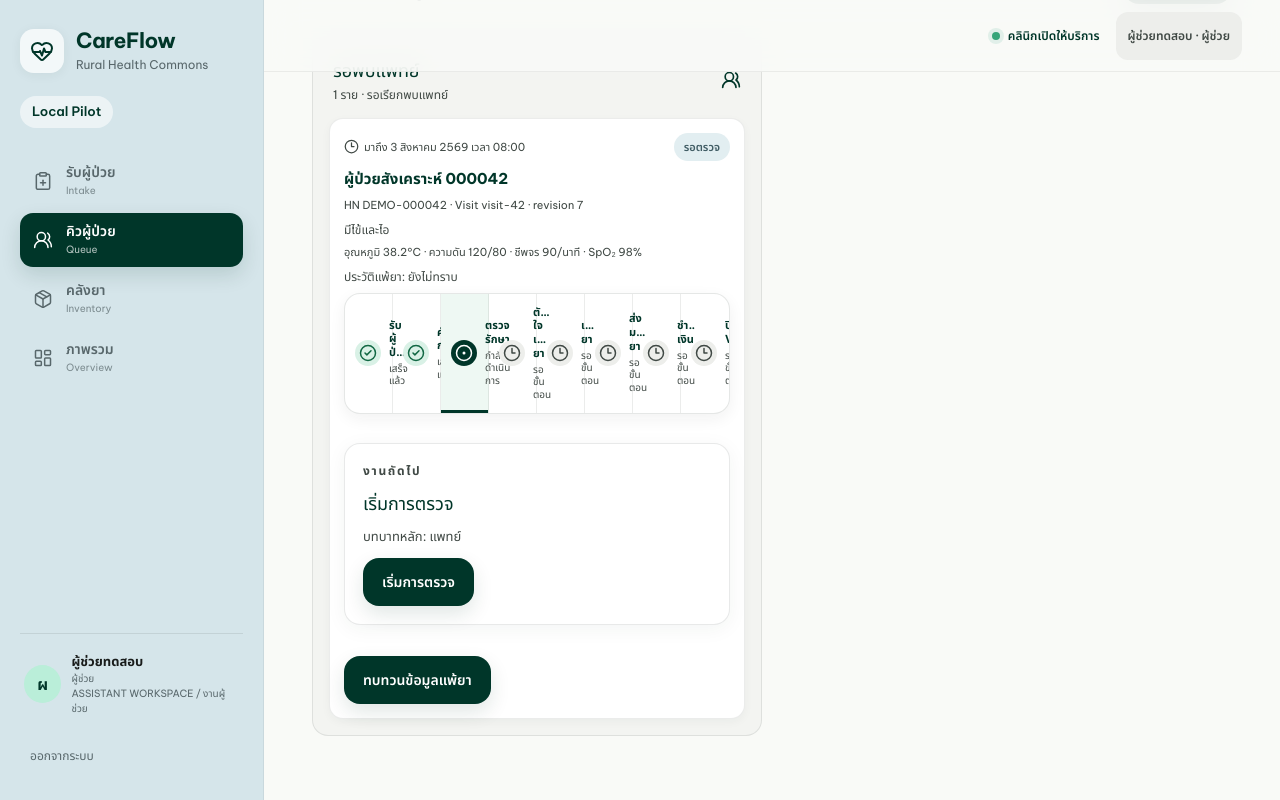
it: connected shared queue workflow › retains Assistant Allergy values but blocks resubmission until a conflict reload
(page scrolled)
Click the button "ทบทวนข้อมูลแพ้ยา" at (417, 680), box [344, 656, 491, 704]
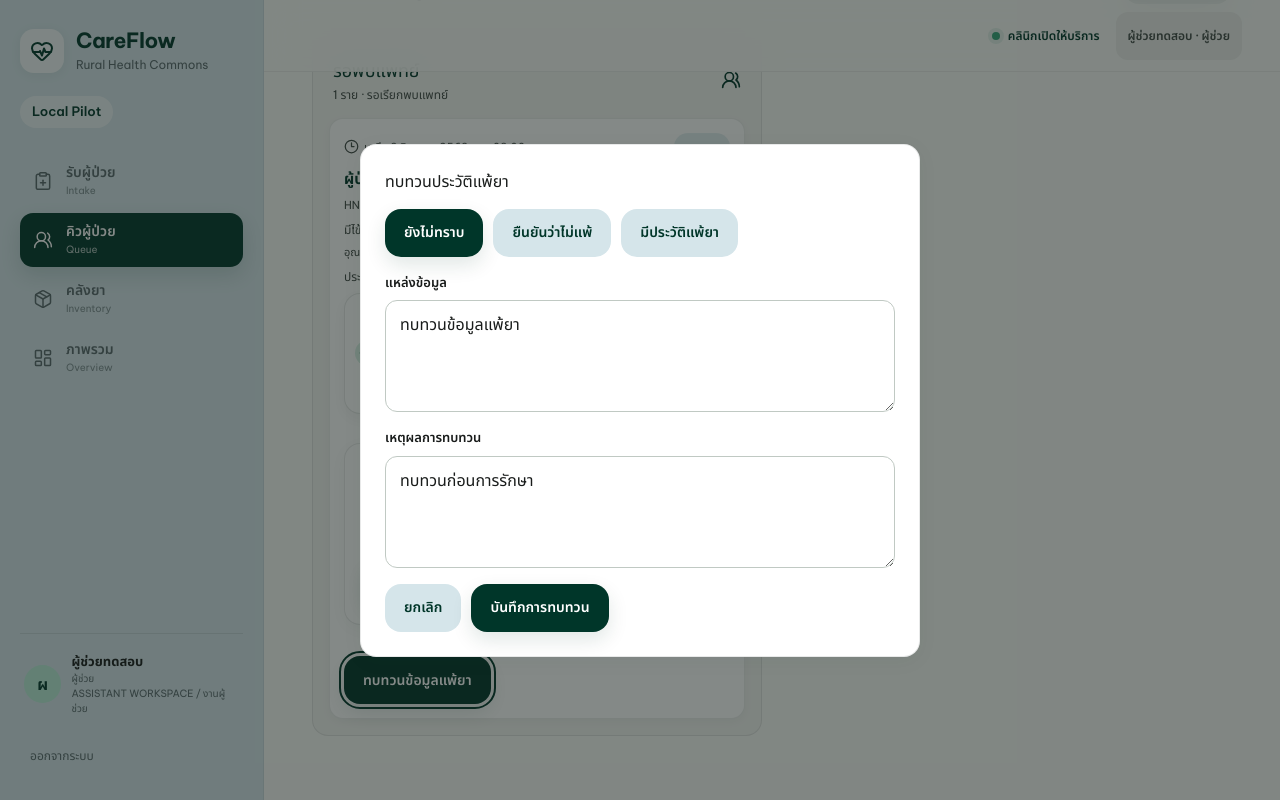
Replace the text in the text box labelled "แหล่งข้อมูล" with "ผู้ช่วยทบทวนจากบัตรแพ้ยา" at (640, 356), box [385, 300, 895, 412]
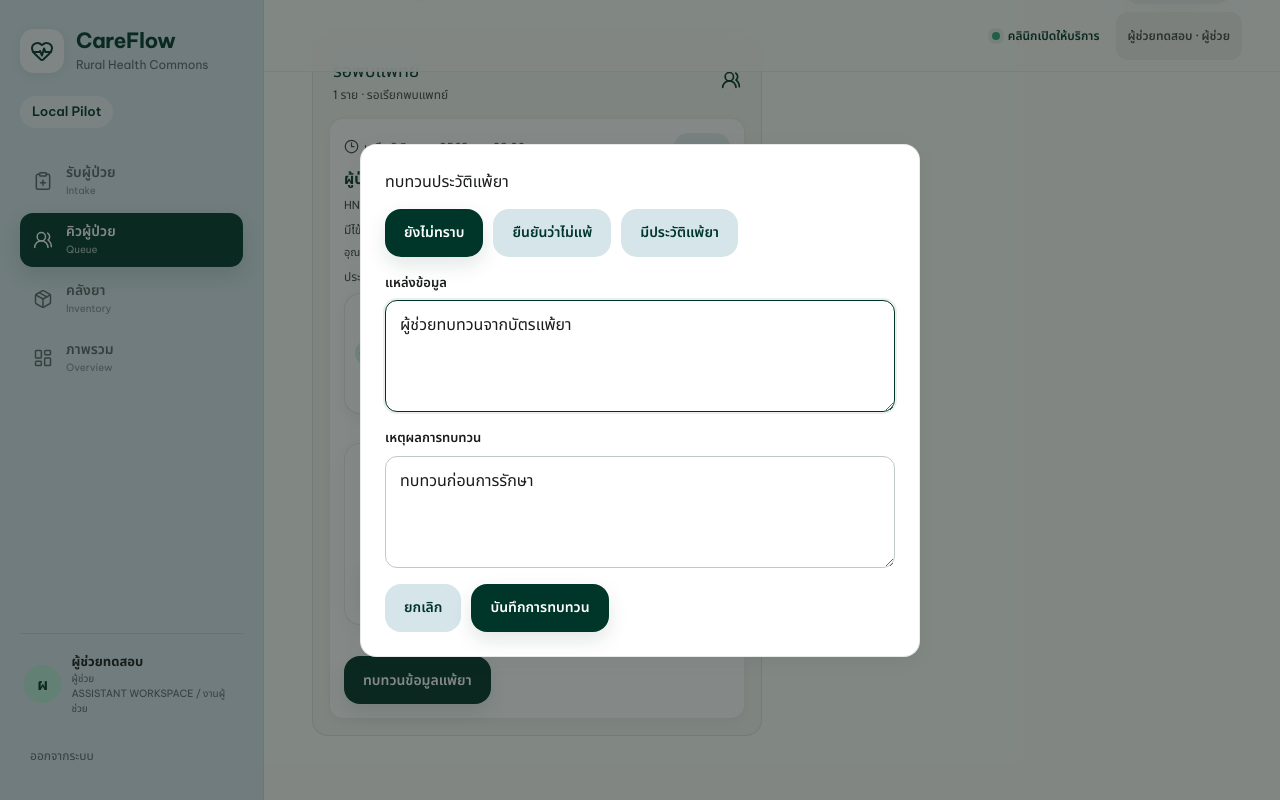
Click the button "บันทึกการทบทวน" at (540, 608), box [472, 584, 608, 632]
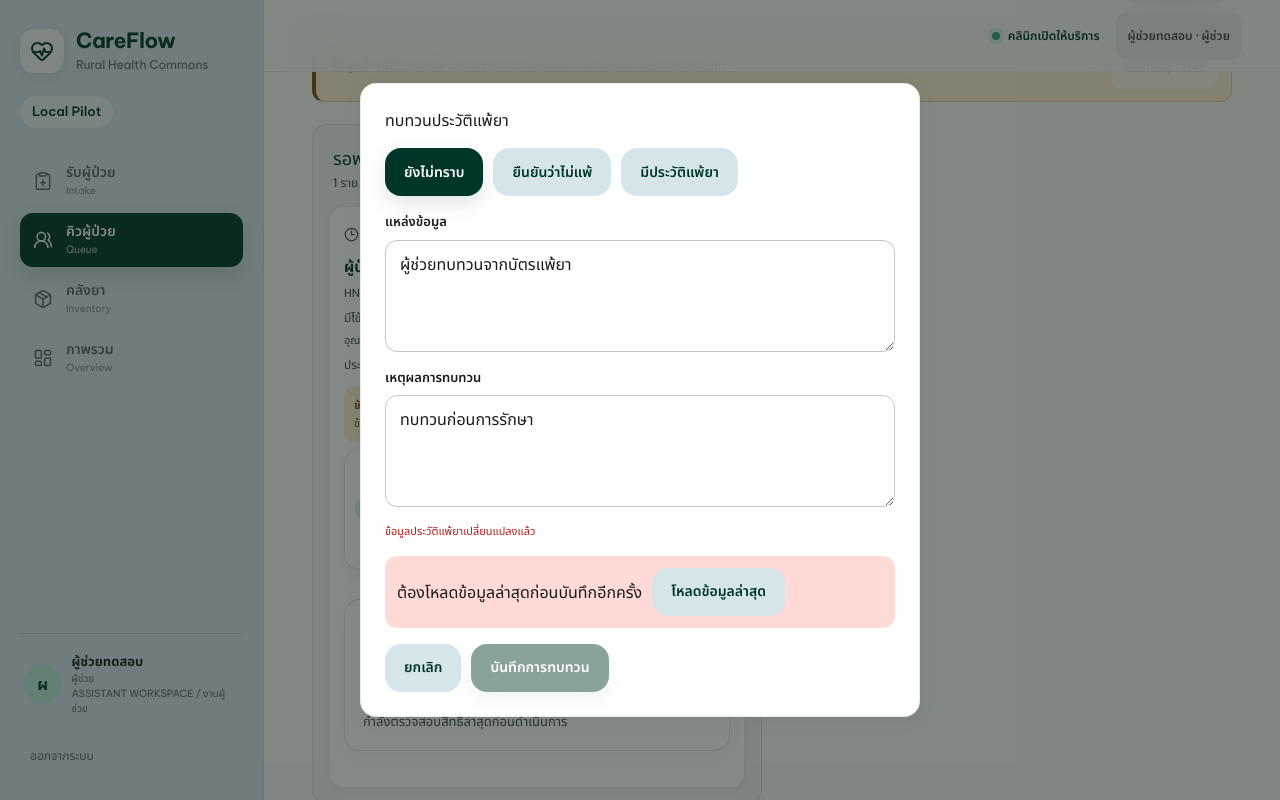
Now the text "ข้อมูลประวัติแพ้ยาเปลี่ยนแปลงแล้ว" is shown, box [354, 398, 514, 412]
Now the button "บันทึกการทบทวน" is disabled, box [472, 644, 608, 692]
Click the button "โหลดข้อมูลล่าสุด" at (719, 592), box [652, 568, 785, 616]
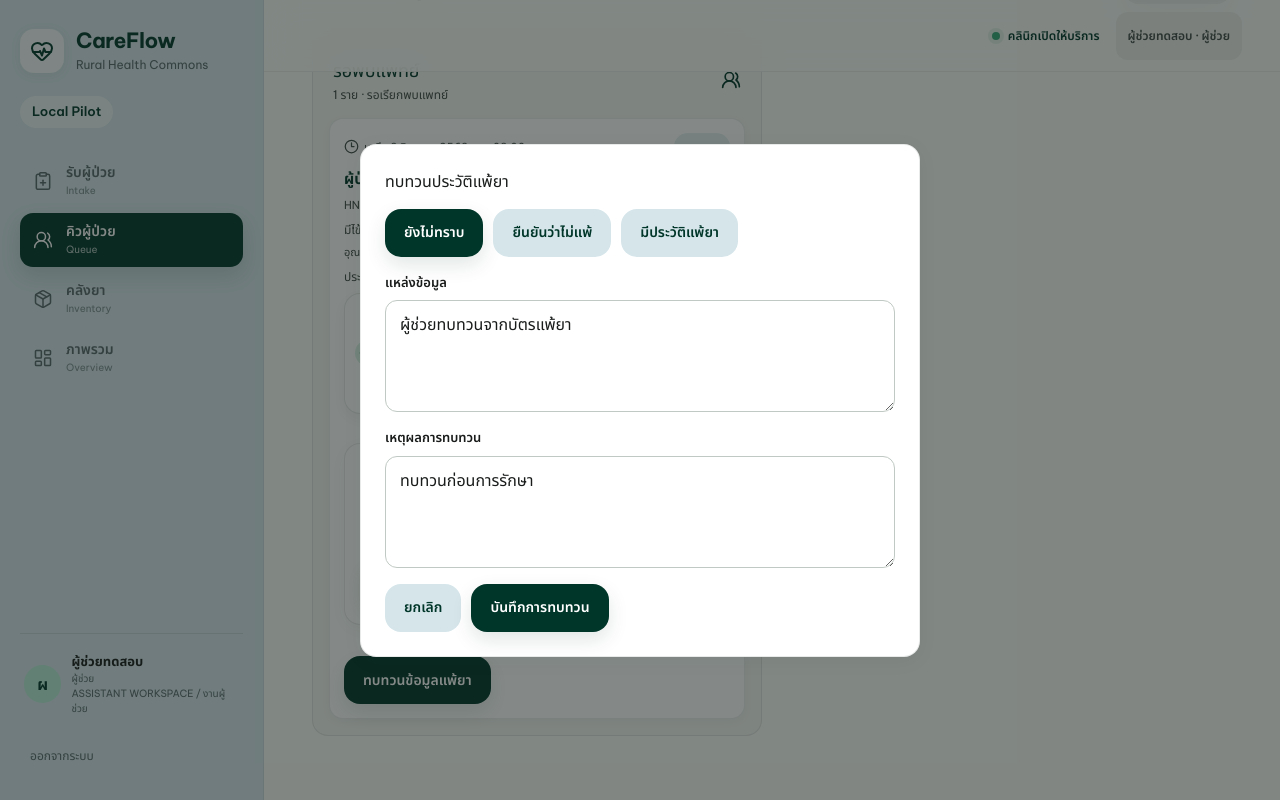
Now the button "บันทึกการทบทวน" is enabled, box [472, 584, 608, 632]
